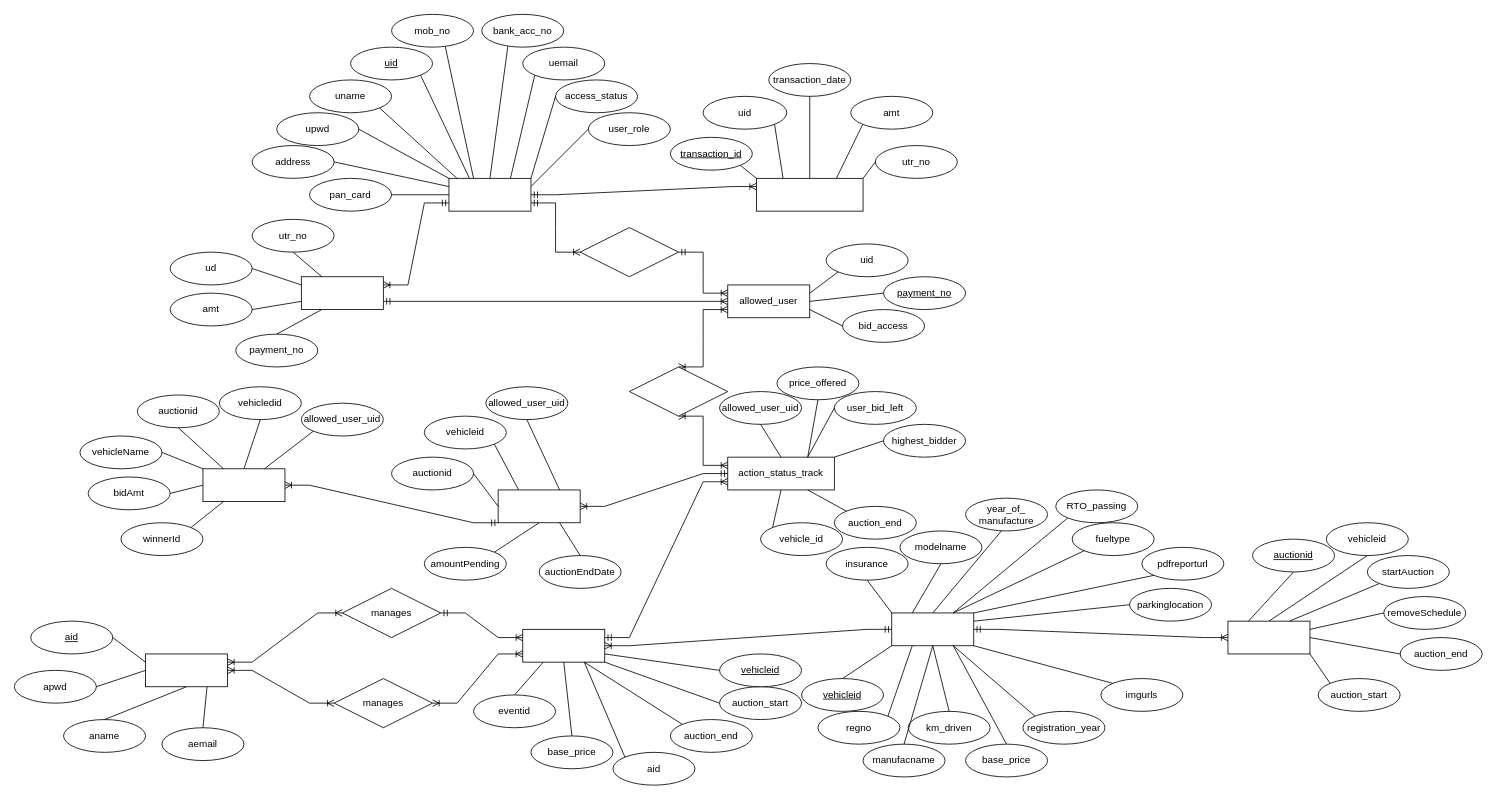
The diagram is 1497 pixels wide and 800 high, and some of its shapes have lost their labels. Each missing label, with the centre of its shape:
"admin" goes at (186,670).
"all_vehicle_details" goes at (932,629).
"approvals" goes at (243,485).
"belongs to" goes at (629,252).
"can participates" goes at (678,391).
"current_auction" goes at (563,645).
"deposit_payment" goes at (342,293).
"host_auction" goes at (1268,637).
"payment_transaction" goes at (809,194).
"user" goes at (489,194).
"winnertable" goes at (538,506).
